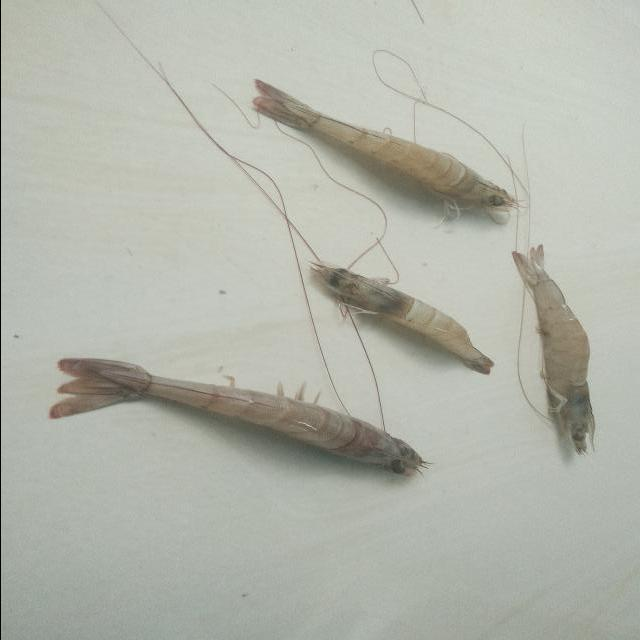shrimp: (48, 358, 426, 476), (252, 79, 519, 224), (310, 261, 493, 375), (513, 245, 595, 455)
